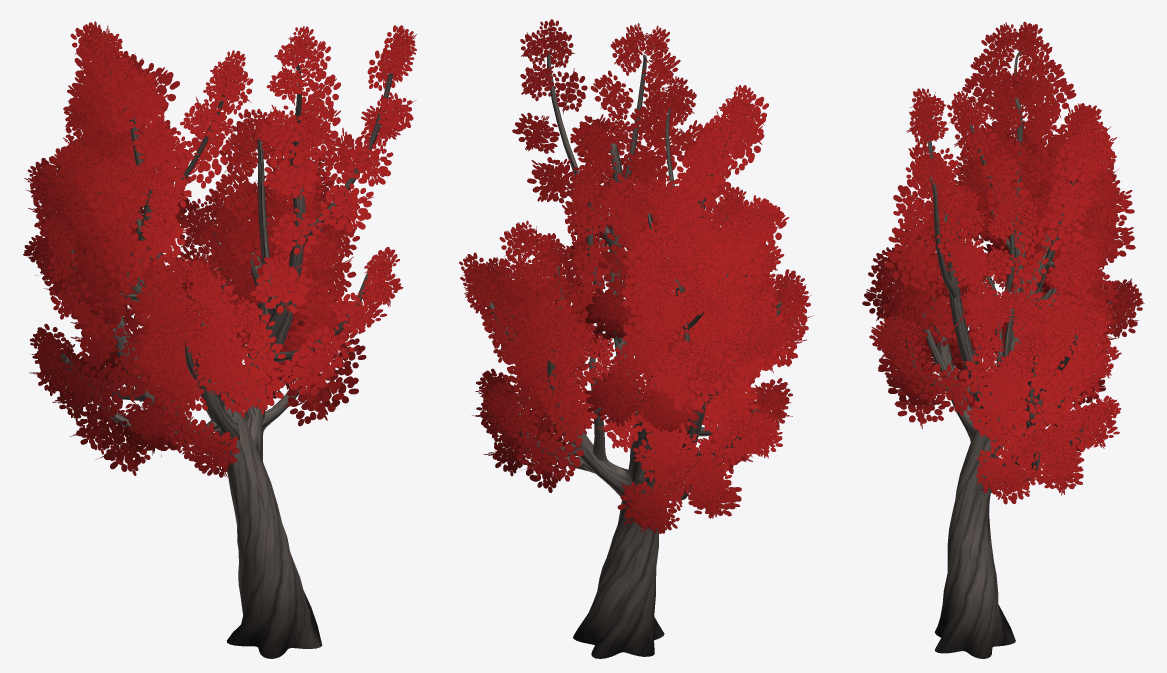
The model's file is nat_twistedtree_2.glb.
3 renders of one model, left to right at view 1: azimuth 30°, elevation 25°; view 2: azimuth 150°, elevation 25°; view 3: azimuth 270°, elevation 25°, orthographic. The views are drawn at different scales.
Parts seen in each view (by area): view 1: tree039_1, tree039; view 2: tree039_1, tree039; view 3: tree039_1, tree039.
Boxes of the visible parts, box(x1,y1,x2,y2) form: tree039_1: box(23, 21, 416, 477); tree039: box(61, 55, 392, 658); tree039_1: box(459, 19, 814, 533); tree039: box(483, 51, 781, 658); tree039_1: box(862, 21, 1144, 504); tree039: box(905, 51, 1112, 658).
Bounding box in the file's own units: 10.56 × 18.95 × 9.2.
Materials: 2 (2 with a texture image).
